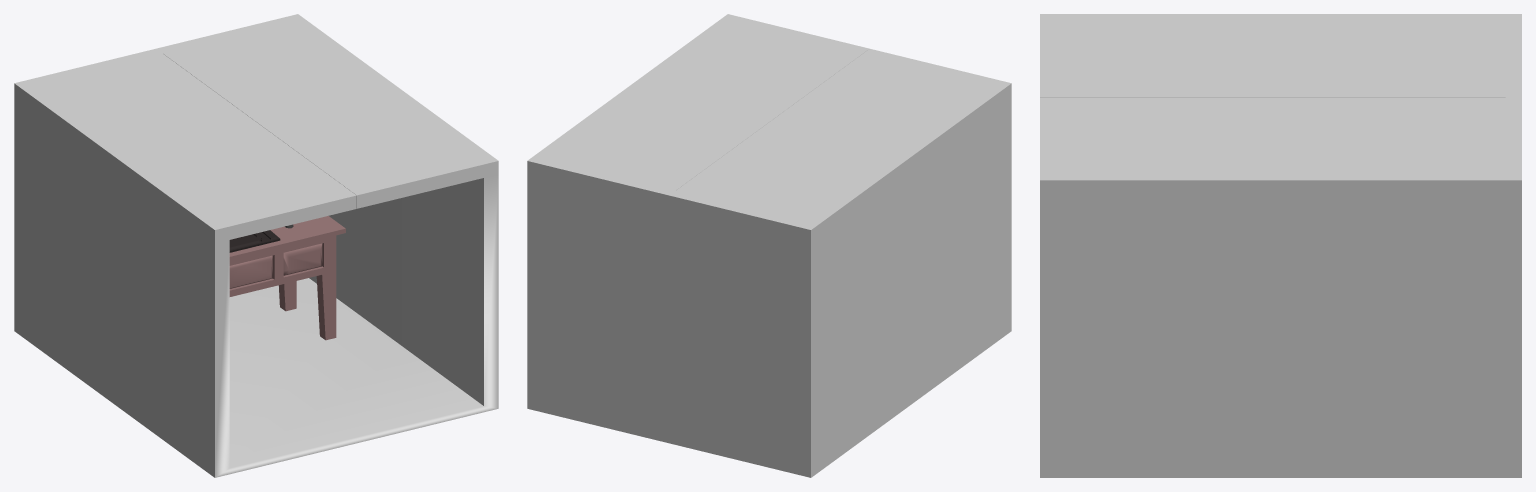
Rendered from ROOM2.glb.
3 renders of one model, left to right at view 1: azimuth 30°, elevation 25°; view 2: azimuth 150°, elevation 25°; view 3: azimuth 270°, elevation 25°, orthographic. The views are drawn at different scales.
Parts seen in each view (by area): view 1: pCube4, des, Keyb; view 2: pCube4; view 3: pCube4.
Boxes of the visible parts, x1,y1,x2,y2 form: pCube4: [14, 14, 498, 477]; des: [229, 216, 345, 340]; Keyb: [229, 230, 280, 252]; pCube4: [527, 14, 1011, 477]; pCube4: [1040, 14, 1521, 477].
Size of the model in its own units: 13.97 by 11.65 by 17.1.
